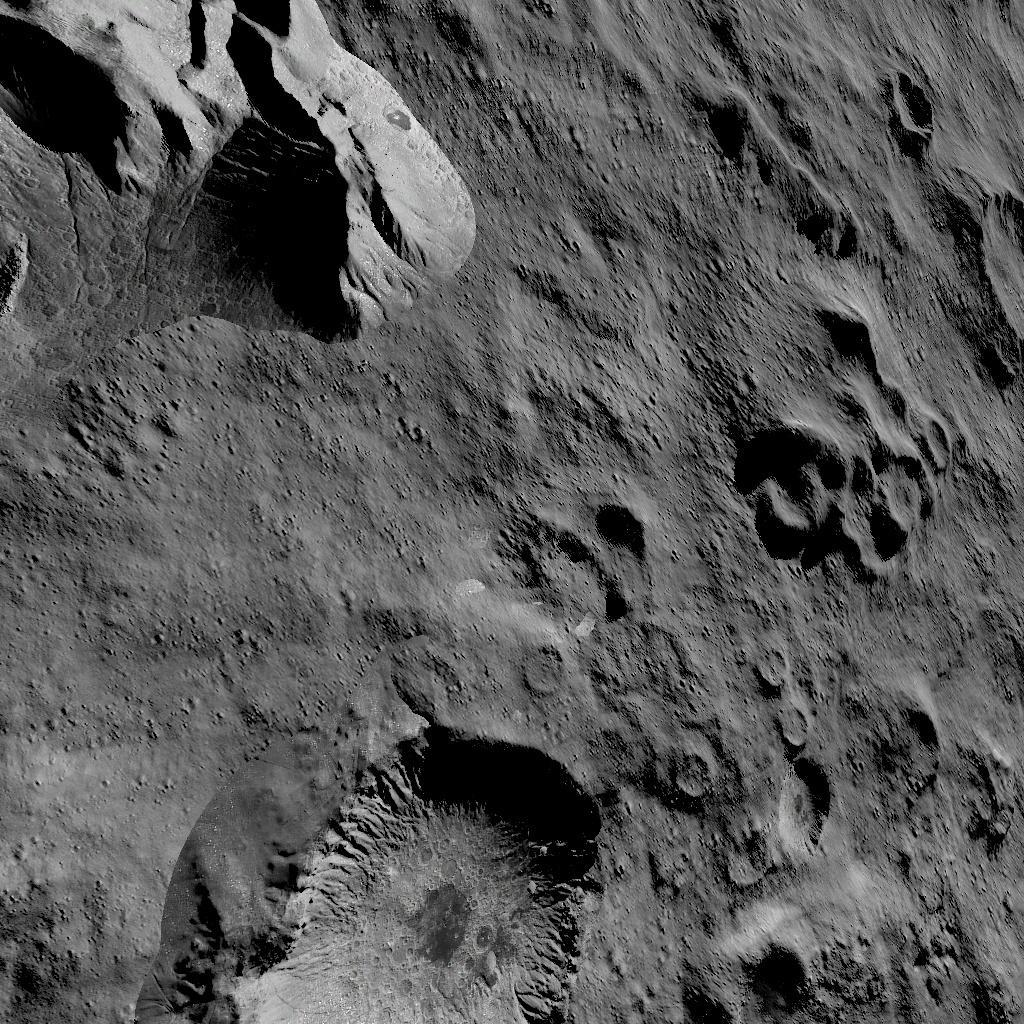Boulders: (1, 0, 482, 455)
Crater: (187, 716, 637, 1024), (737, 302, 956, 570), (753, 638, 848, 870), (539, 504, 668, 625), (681, 924, 834, 1024), (964, 170, 1024, 361), (891, 700, 961, 817), (889, 60, 957, 152), (517, 642, 588, 698), (673, 750, 728, 806)
Plan surface: (1, 464, 504, 704), (518, 0, 717, 489), (3, 710, 176, 1024)
